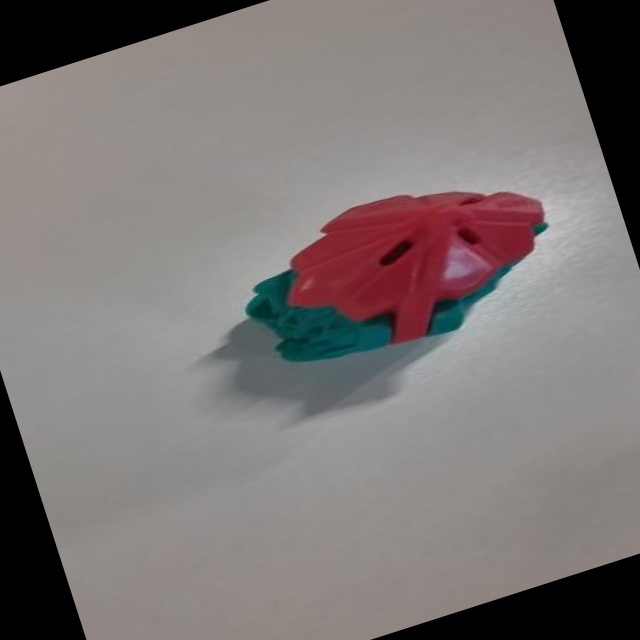House: (218, 148, 585, 396)
